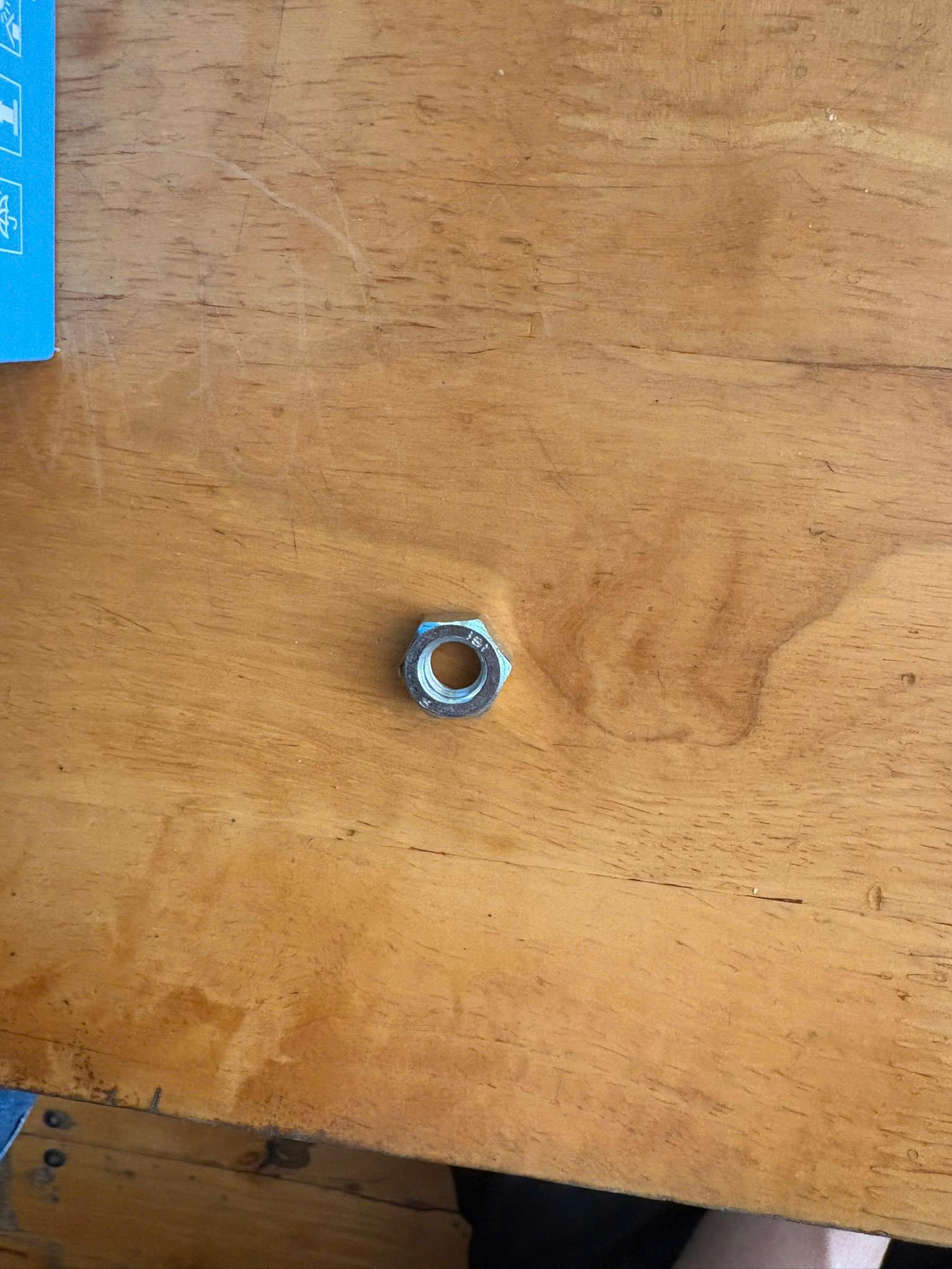nut: (397, 605, 506, 720)
